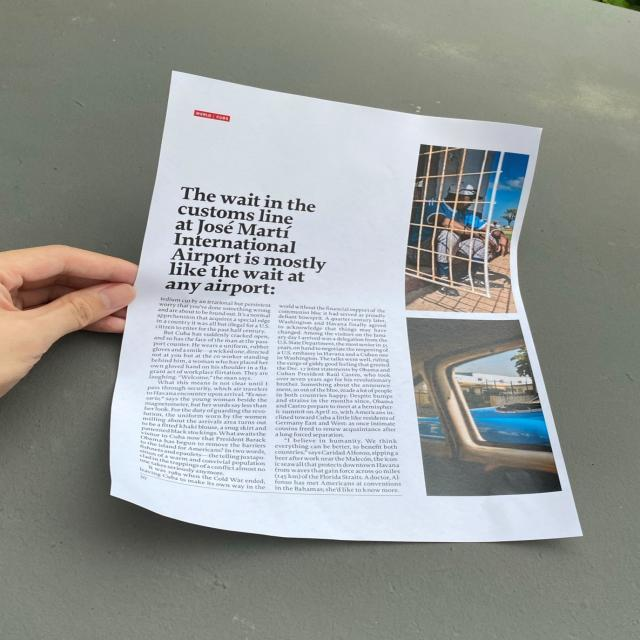document: (110, 72, 580, 541)
